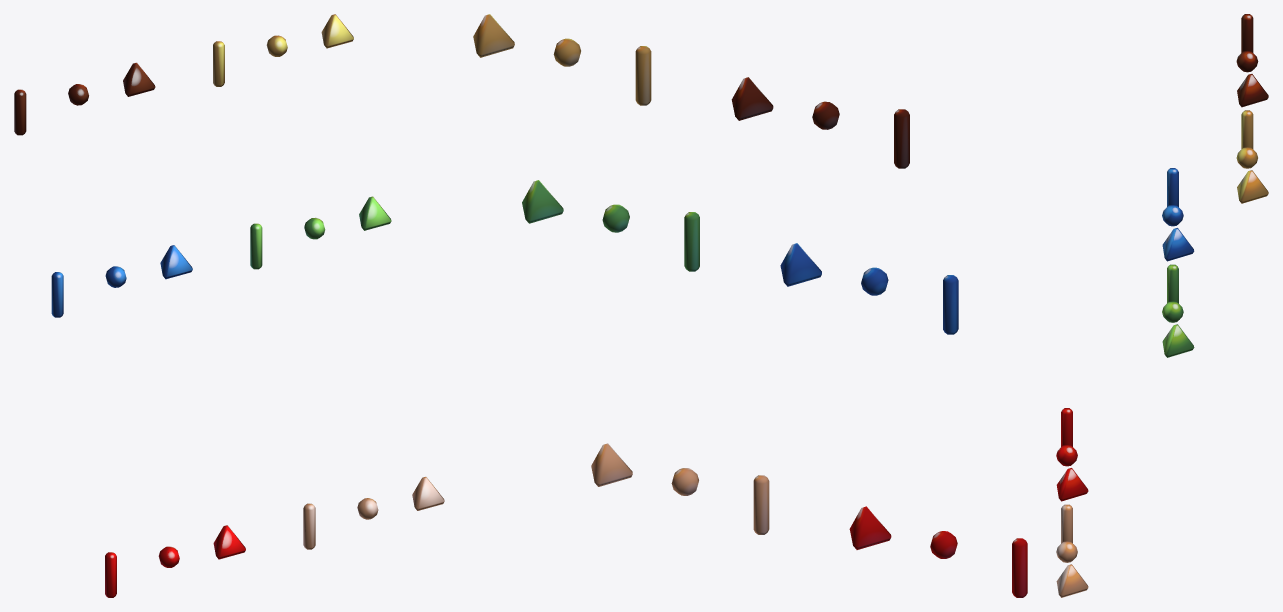
Rendered from sprinkles.fbx.
The picture shows the model from 3 angles, left to right: view 1: azimuth 30°, elevation 25°; view 2: azimuth 150°, elevation 25°; view 3: azimuth 270°, elevation 25°; orthographic projection. The views are drawn at different scales.
Parts seen in each view (by area): view 1: choko_dragees_pyramid, green_dragees_pyramid, red_dragees_pyramid, blue_dragees_pyramid, white_dragees_pyramid, yellow_dragees_pyramid, green_dragees_cylinder, white_dragees_cylinder, choko_dragees_cylinder, blue_dragees_cylinder; view 2: red_dragees_pyramid, choko_dragees_pyramid, green_dragees_pyramid, white_dragees_pyramid, yellow_dragees_pyramid, blue_dragees_pyramid, yellow_dragees_cylinder, white_dragees_cylinder, choko_dragees_cylinder, red_dragees_cylinder, blue_dragees_cylinder, green_dragees_cylinder; view 3: white_dragees_pyramid, green_dragees_pyramid, red_dragees_pyramid, yellow_dragees_pyramid, blue_dragees_pyramid, choko_dragees_pyramid, yellow_dragees_cylinder, choko_dragees_cylinder, green_dragees_cylinder, white_dragees_cylinder, blue_dragees_cylinder, red_dragees_cylinder (+6 smaller).
Part boxes in pixels (x1,y1,x2,y2): choko_dragees_pyramid: [123, 62, 155, 96]; green_dragees_pyramid: [359, 196, 391, 230]; red_dragees_pyramid: [213, 525, 245, 559]; blue_dragees_pyramid: [160, 245, 192, 279]; white_dragees_pyramid: [412, 476, 444, 510]; yellow_dragees_pyramid: [321, 14, 353, 48]; green_dragees_cylinder: [250, 223, 262, 269]; white_dragees_cylinder: [303, 503, 315, 549]; choko_dragees_cylinder: [14, 89, 26, 135]; blue_dragees_cylinder: [51, 272, 63, 317]; red_dragees_pyramid: [849, 506, 891, 549]; choko_dragees_pyramid: [731, 77, 773, 120]; green_dragees_pyramid: [522, 180, 563, 223]; white_dragees_pyramid: [591, 443, 632, 486]; yellow_dragees_pyramid: [473, 14, 514, 57]; blue_dragees_pyramid: [780, 243, 821, 286]; yellow_dragees_cylinder: [635, 46, 651, 105]; white_dragees_cylinder: [753, 475, 769, 534]; choko_dragees_cylinder: [894, 109, 909, 168]; red_dragees_cylinder: [1012, 538, 1027, 597]; blue_dragees_cylinder: [943, 275, 958, 334]; green_dragees_cylinder: [684, 212, 699, 271]; white_dragees_pyramid: [1056, 564, 1088, 597]; green_dragees_pyramid: [1162, 324, 1194, 357]; red_dragees_pyramid: [1056, 468, 1088, 501]; yellow_dragees_pyramid: [1237, 170, 1268, 203]; blue_dragees_pyramid: [1162, 228, 1194, 261]; choko_dragees_pyramid: [1237, 74, 1268, 107]; yellow_dragees_cylinder: [1241, 110, 1253, 149]; choko_dragees_cylinder: [1241, 14, 1253, 52]; green_dragees_cylinder: [1167, 264, 1178, 303]; white_dragees_cylinder: [1061, 504, 1072, 543]; blue_dragees_cylinder: [1167, 168, 1178, 206]; red_dragees_cylinder: [1061, 408, 1072, 446].
Size of the model in its own units: 192 by 241 by 106.
Materials: 1 (1 with a texture image).
